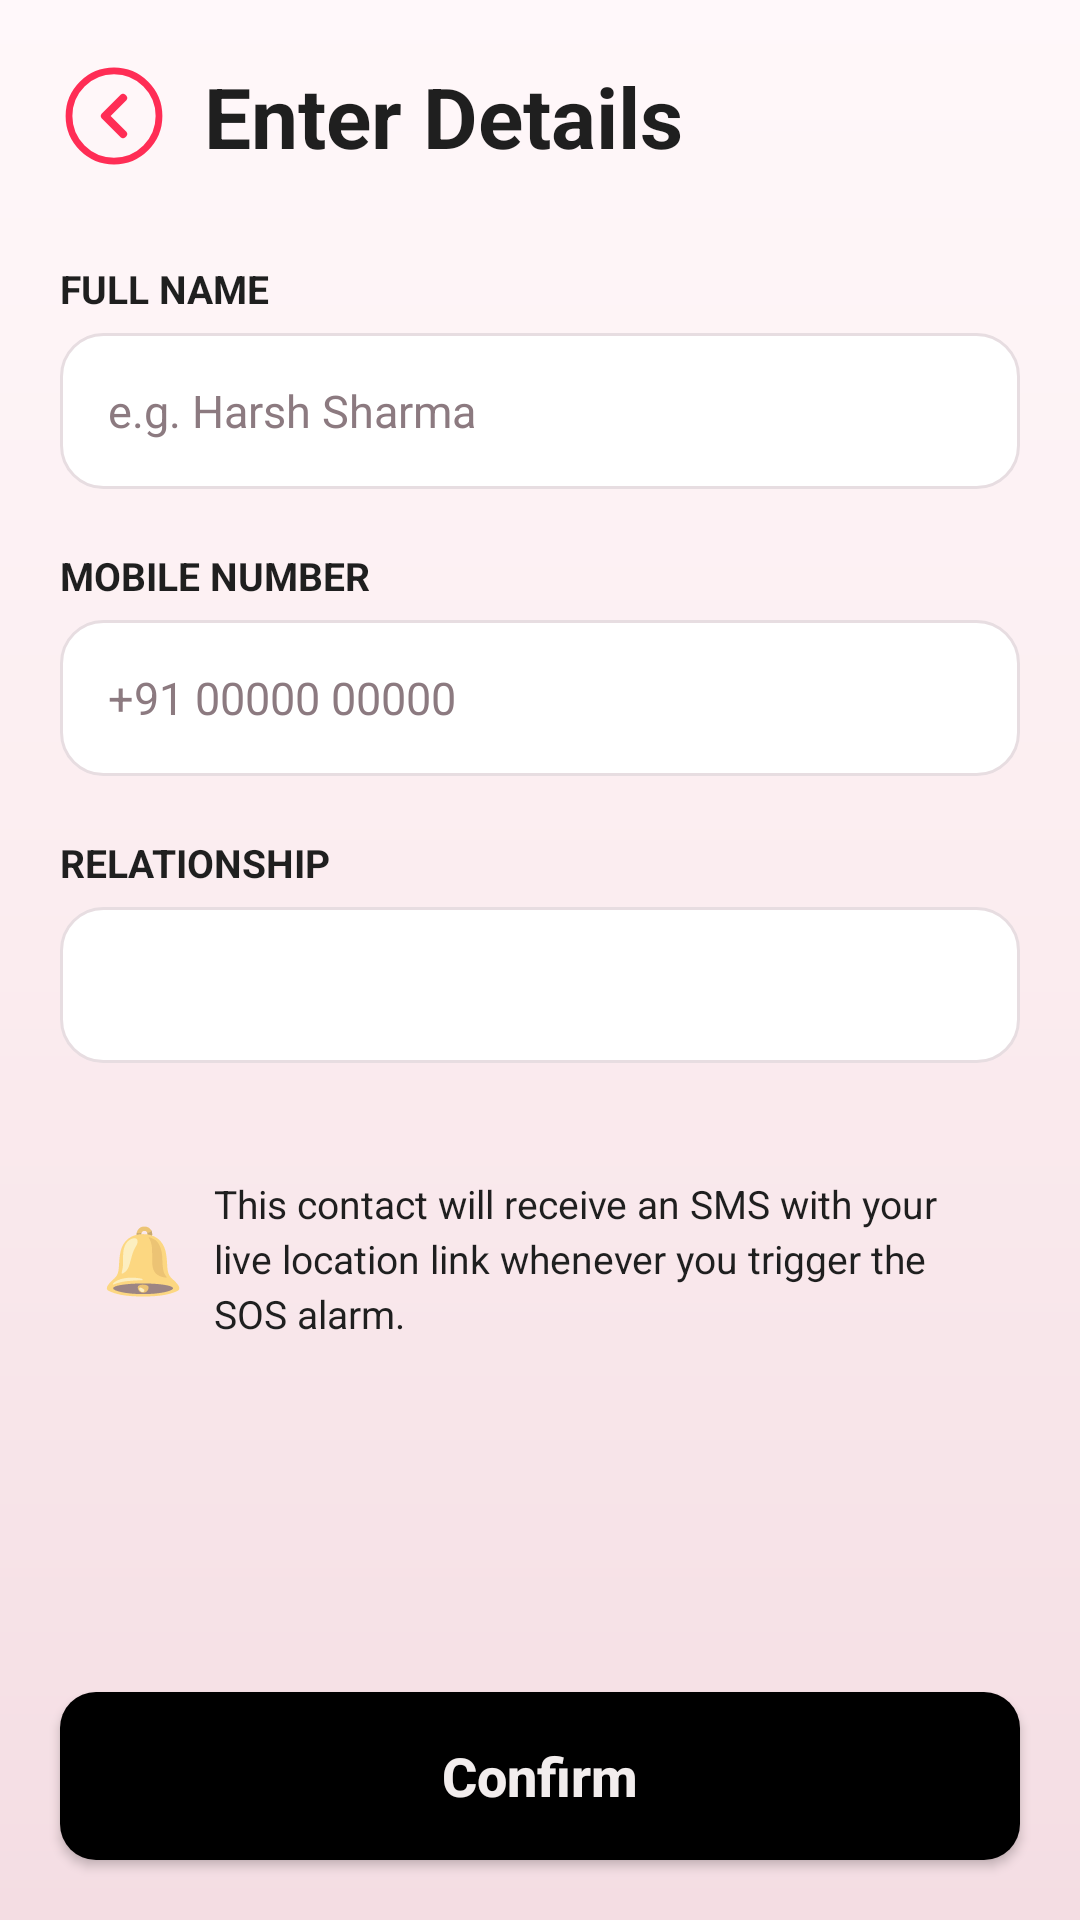

Icon bounding boxes for this 1080 x 1920 phone screenshot, format (x1, y1, x2, y2):
Back: (65, 67, 163, 165)
